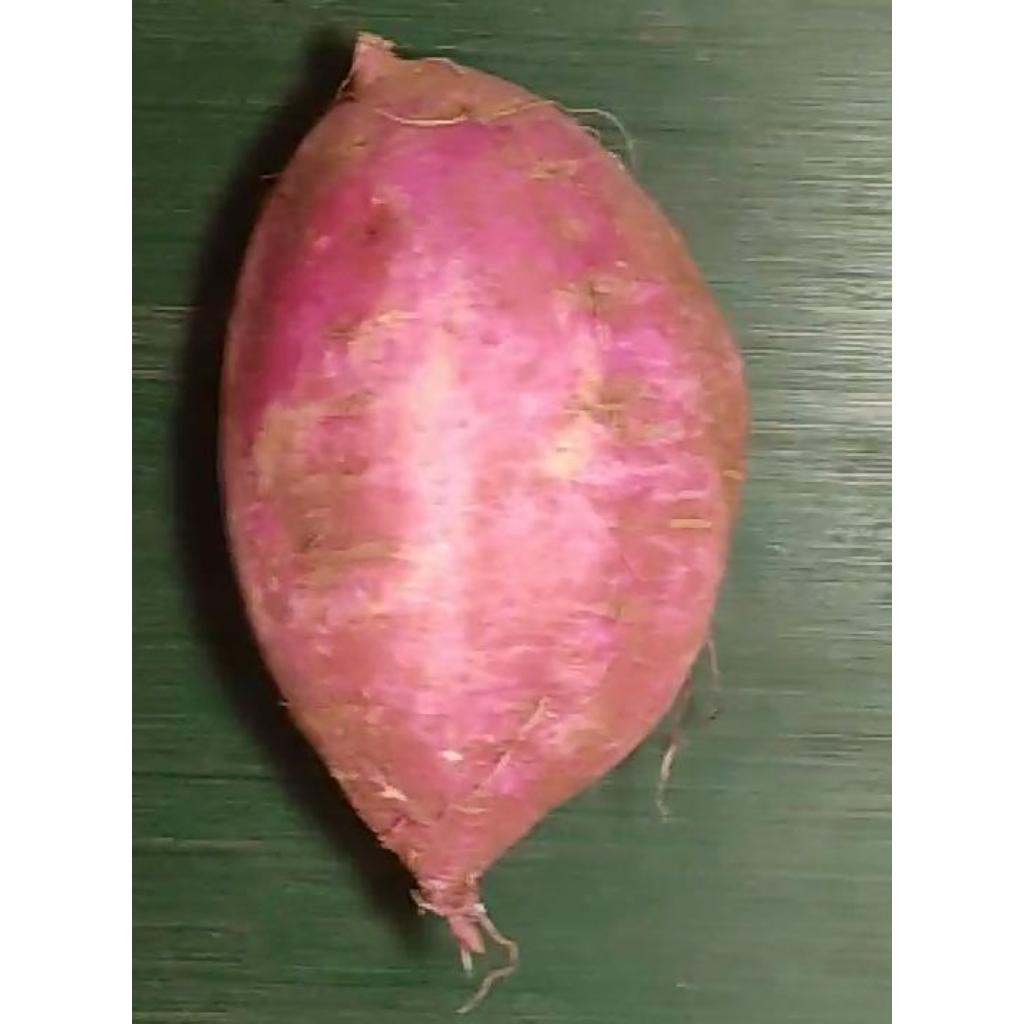Sweet Potato: (224, 34, 749, 959)
